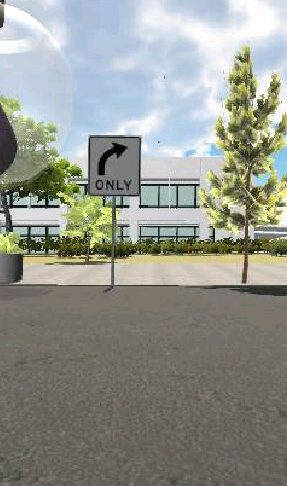arrow_right: (96, 141, 128, 178)
